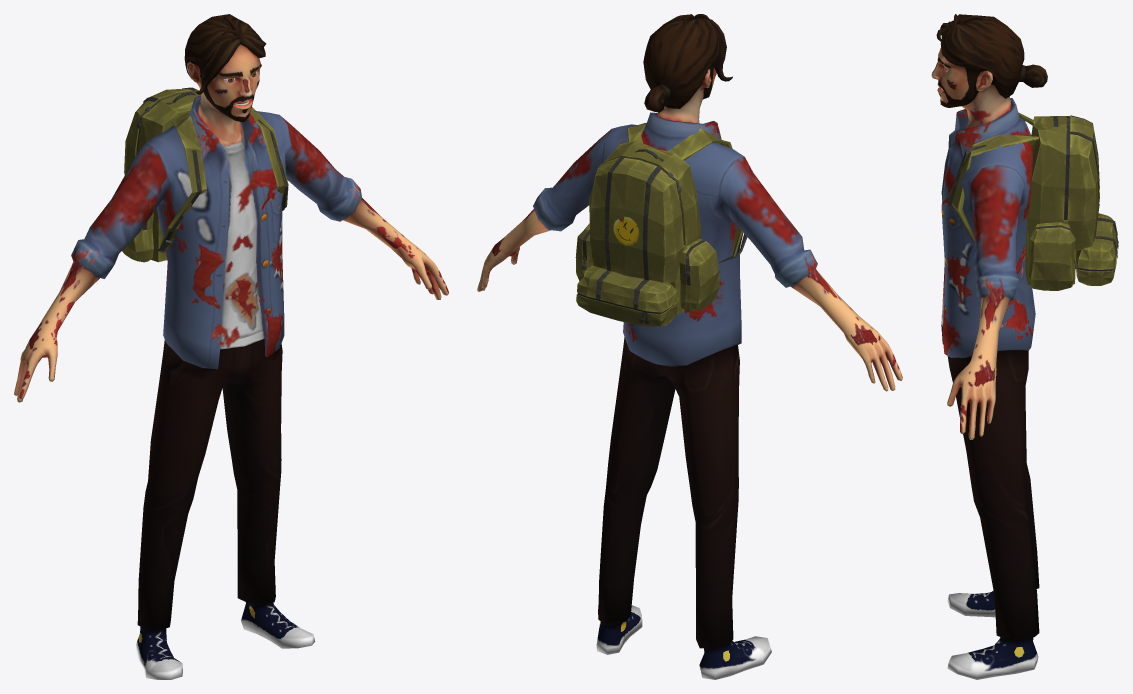
Rendered from karakter.fbx.
The picture shows the model from 3 angles, left to right: view 1: azimuth 30°, elevation 25°; view 2: azimuth 150°, elevation 25°; view 3: azimuth 270°, elevation 25°; orthographic projection. The views are drawn at different scales.
Visible parts, largest first — view 1: karakter; view 2: karakter; view 3: karakter.
Boxes of the visible parts, box(x1,y1,x2,y2) form: karakter: box(14, 14, 448, 679); karakter: box(477, 14, 902, 679); karakter: box(931, 14, 1118, 679).
Size of the model in its own units: 1266 by 1808 by 490.
Materials: 2 (2 with a texture image).
